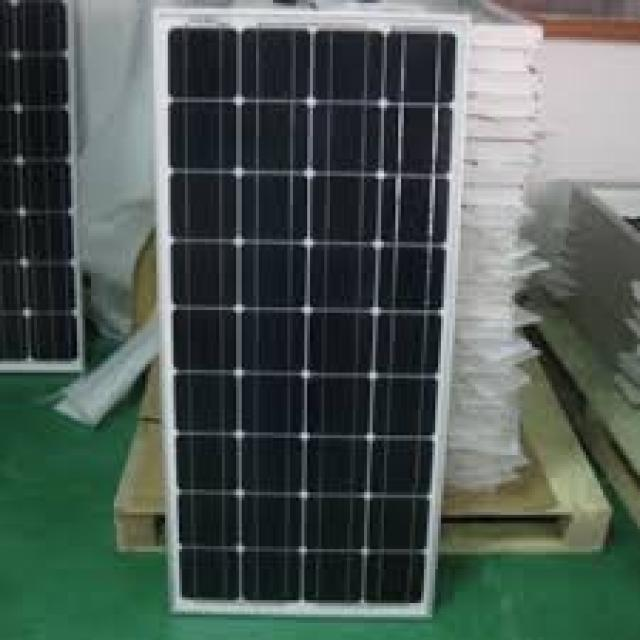no faulty: (171, 25, 450, 613)
